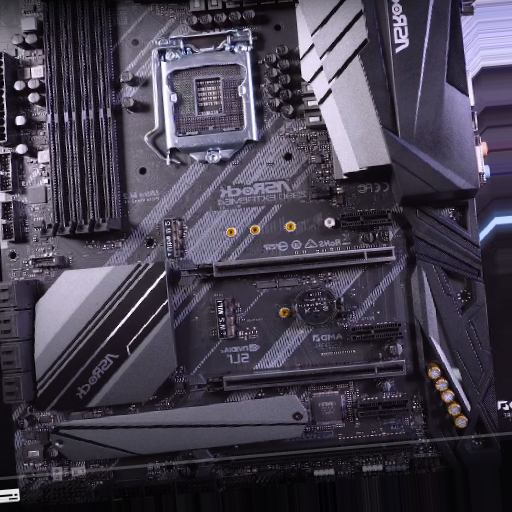CPU: (158, 43, 258, 164)
GPU: (175, 245, 396, 291), (186, 360, 407, 403)
MOTHERBOARD: (1, 1, 502, 488)
RAM: (39, 1, 130, 239)
SSD: (211, 291, 236, 341), (160, 216, 185, 258)
